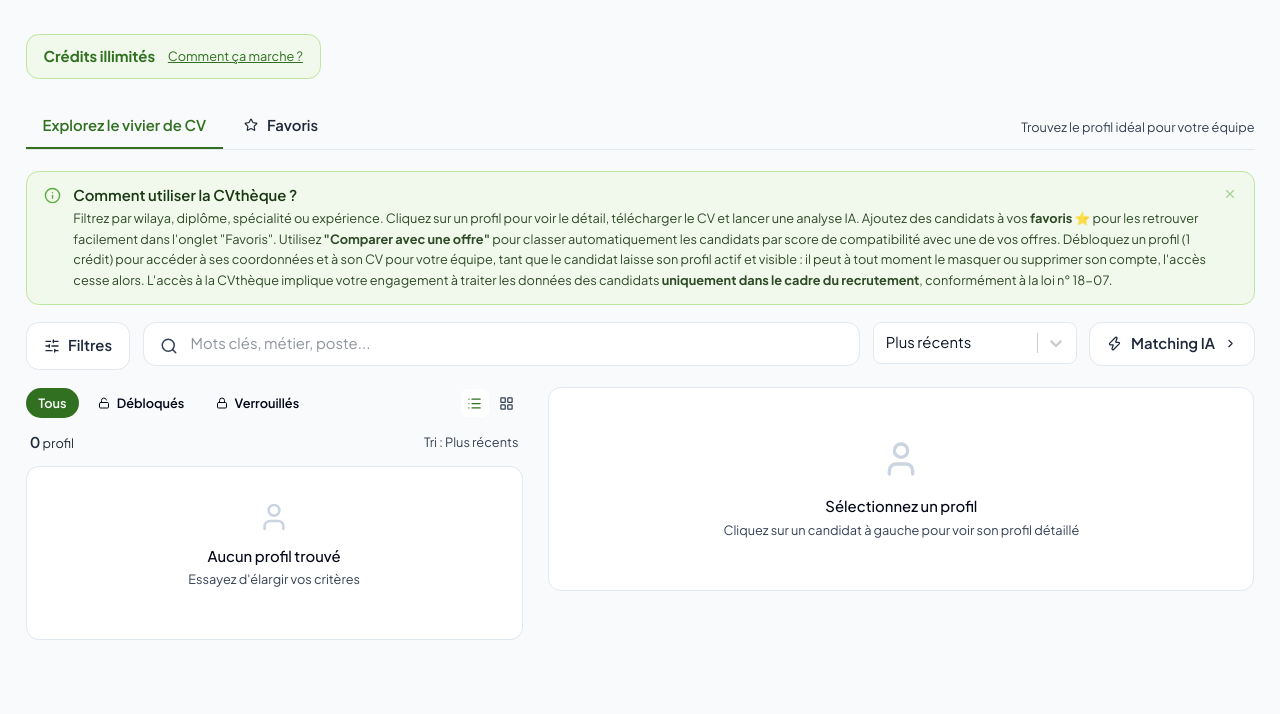
Test: 🔍 UI & Logique - Composant <CVTheque /> › 🔴 EC4 : Affichage robuste sans photo (Initiales)
Type "Ali" into the field with placeholder "Mots clés, métier, poste..." at [501, 344], box x1=143 y1=322 x2=860 y2=366
Wait 500 ms
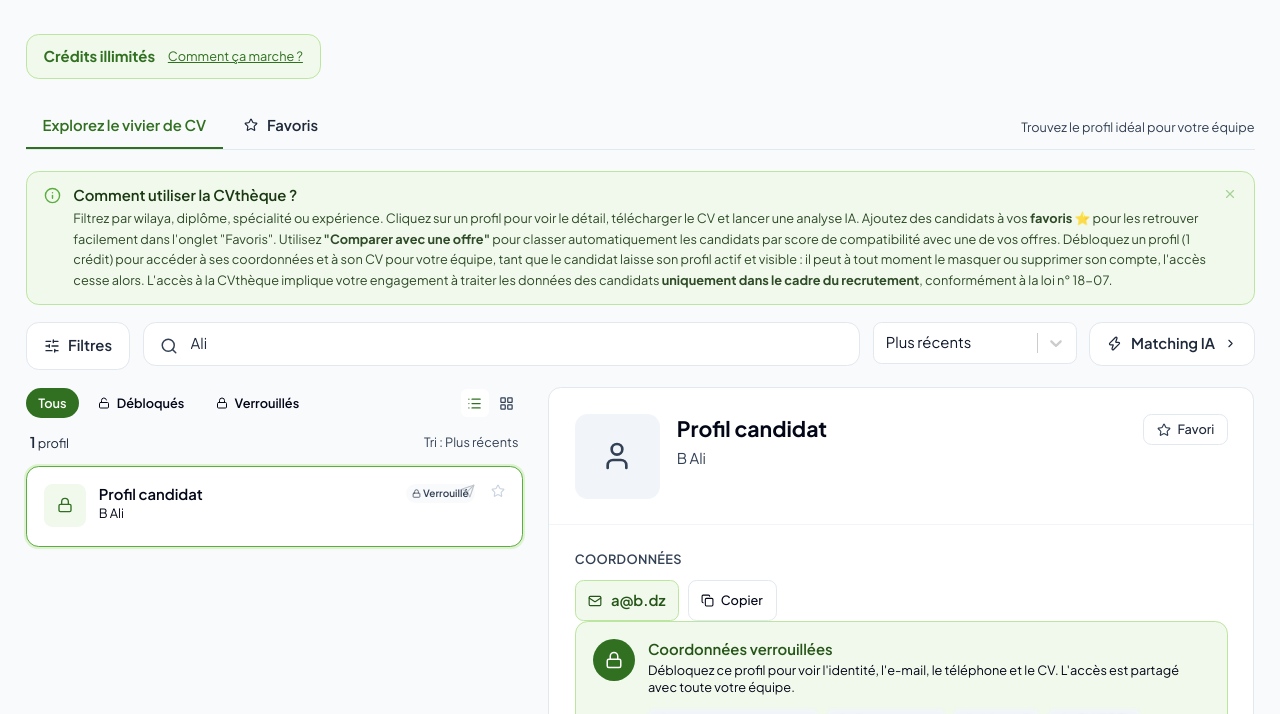
expect the 2nd text "B Ali" is shown: met, box x1=99 y1=505 x2=124 y2=521
